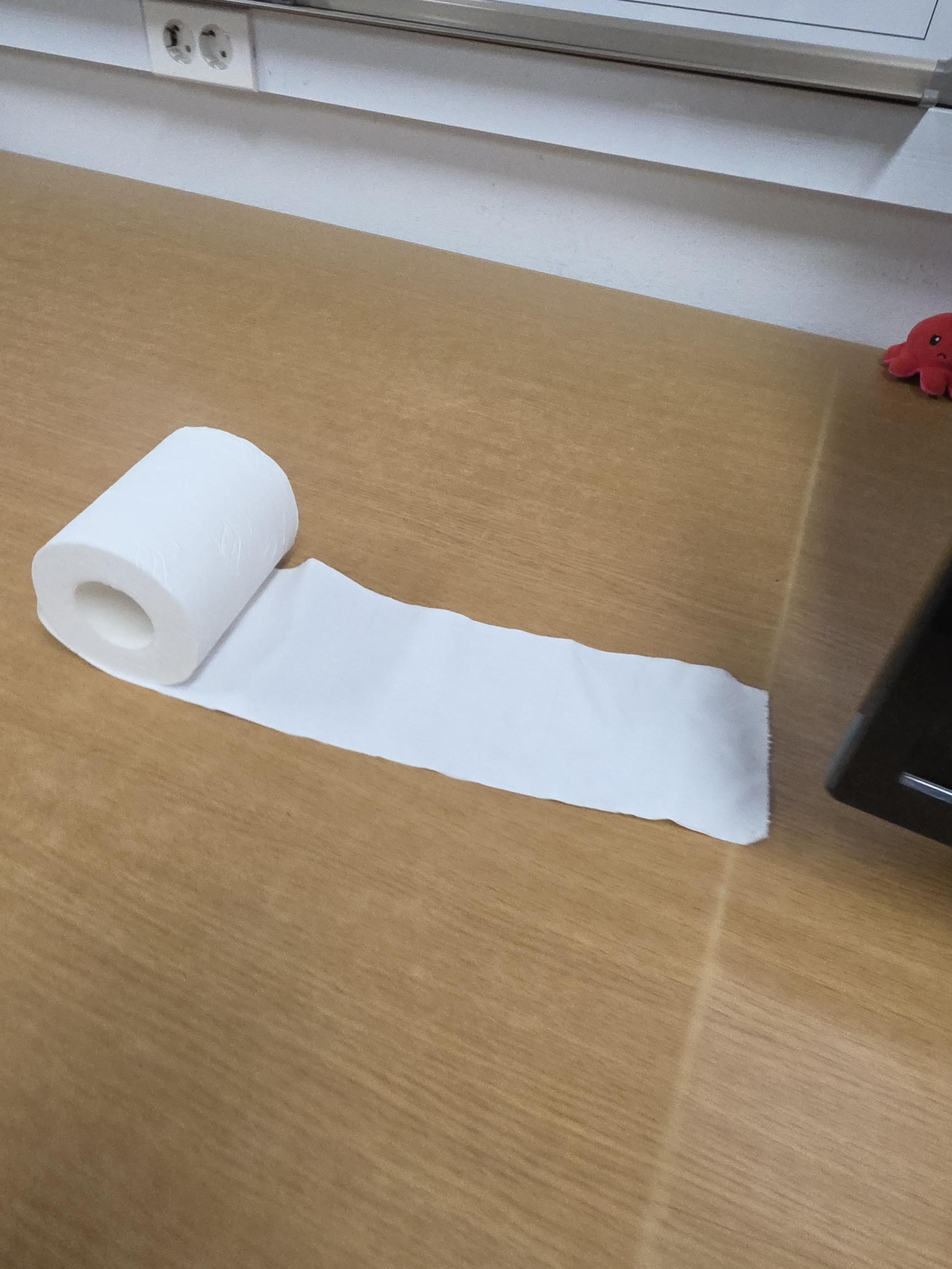tissue: (31, 426, 772, 845)
